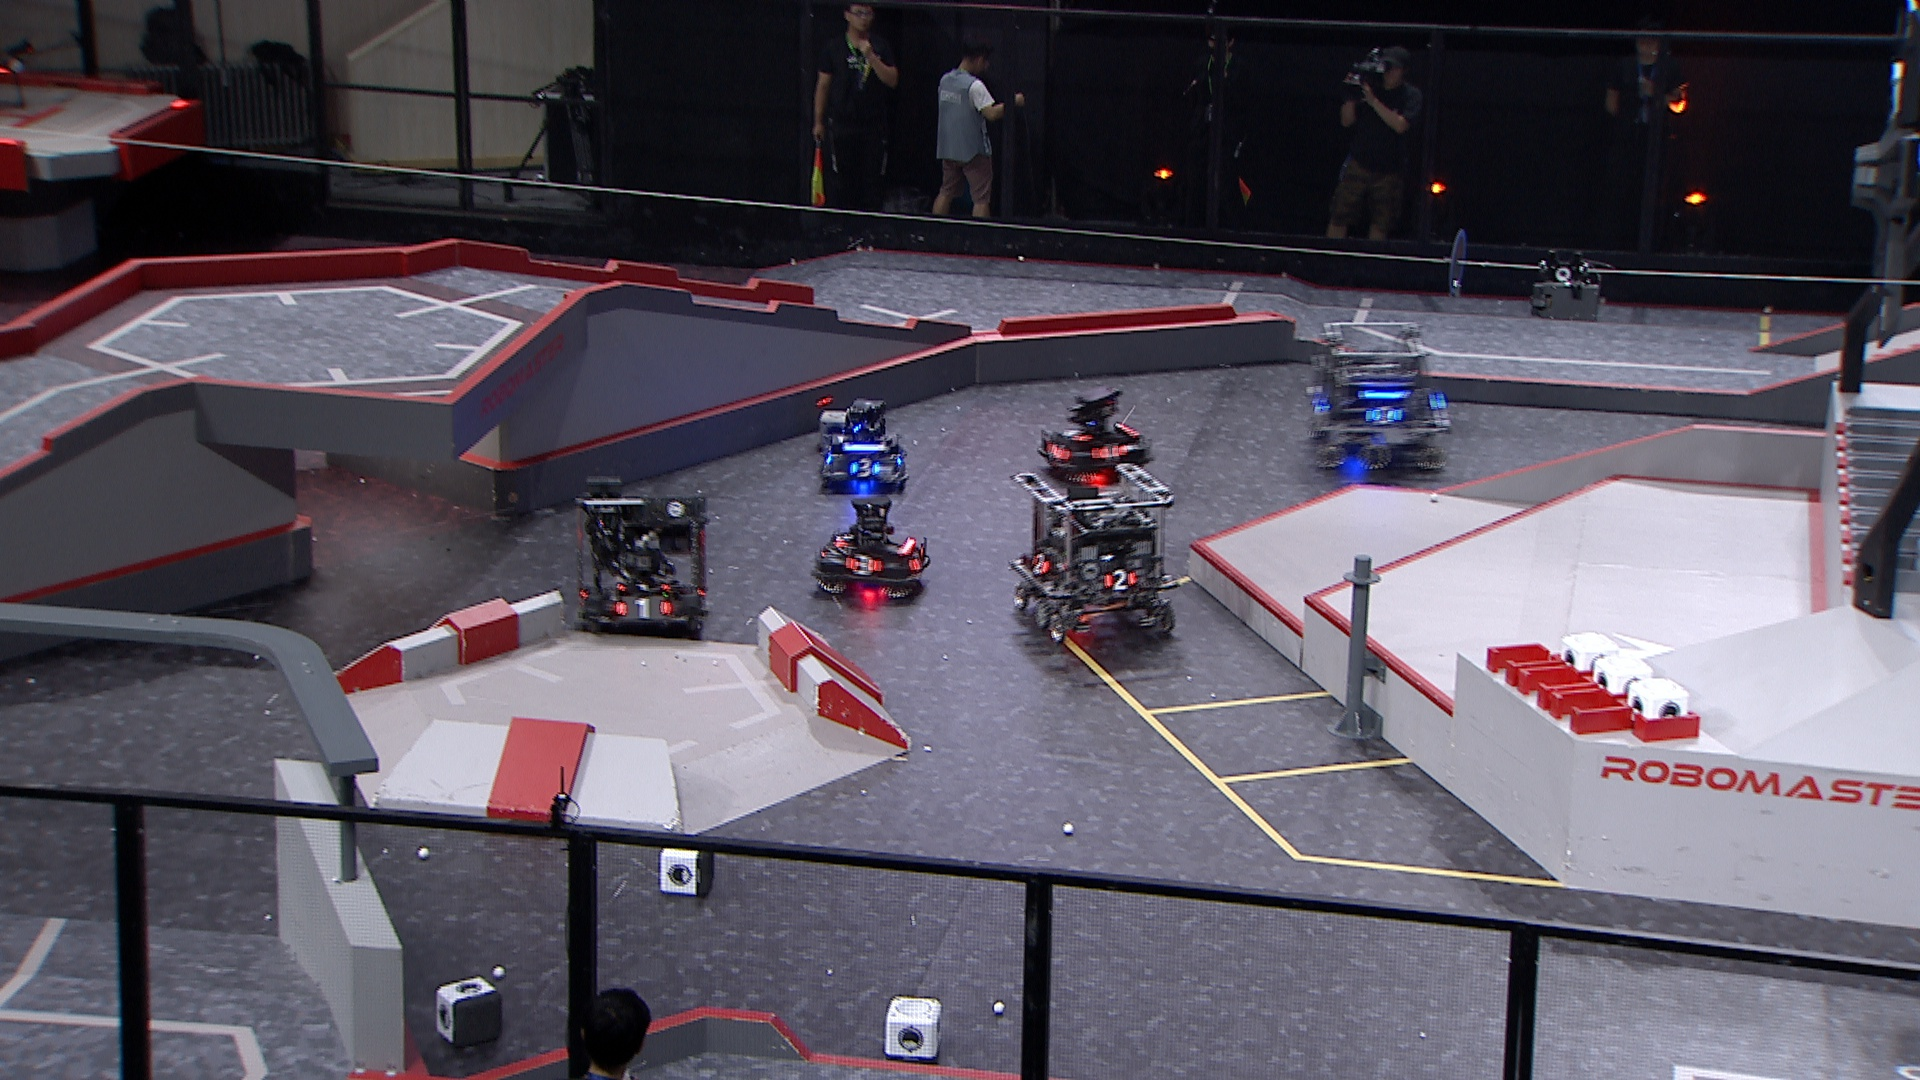armor: (615, 597, 670, 618), (1102, 568, 1135, 589), (847, 553, 877, 575), (1031, 547, 1054, 575), (851, 456, 878, 477), (1309, 390, 1332, 415), (618, 582, 665, 593), (1091, 444, 1122, 462), (1039, 438, 1063, 458), (1370, 406, 1399, 422), (1058, 423, 1083, 440), (833, 527, 855, 545), (907, 549, 923, 570)
car: (1011, 462, 1174, 647), (570, 473, 709, 638), (1304, 315, 1448, 472), (811, 496, 928, 600), (1034, 380, 1156, 476), (816, 398, 910, 488)
